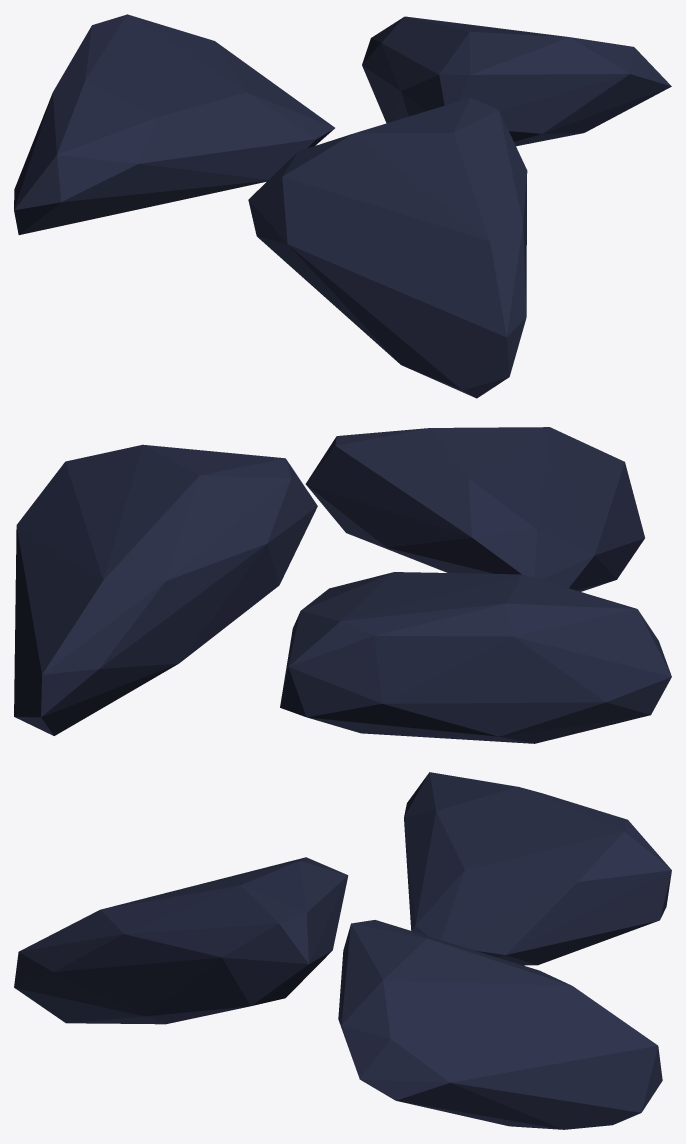
Rendered from Smoothstone 1.fbx.
3 views of the same model, one above another, from view 1: azimuth 30°, elevation 25°; view 2: azimuth 150°, elevation 25°; view 3: azimuth 270°, elevation 25° (orthographic). The views are drawn at different scales.
Visible parts, largest first — view 1: Smoothstone Size 1; view 2: Smoothstone Size 1; view 3: Smoothstone Size 1.
Part boxes in pixels (x1,y1,x2,y2): Smoothstone Size 1: (14,14,671,398); Smoothstone Size 1: (14,427,671,743); Smoothstone Size 1: (14,772,671,1129).
Bounding box in the file's own units: 111 × 31.08 × 109.
